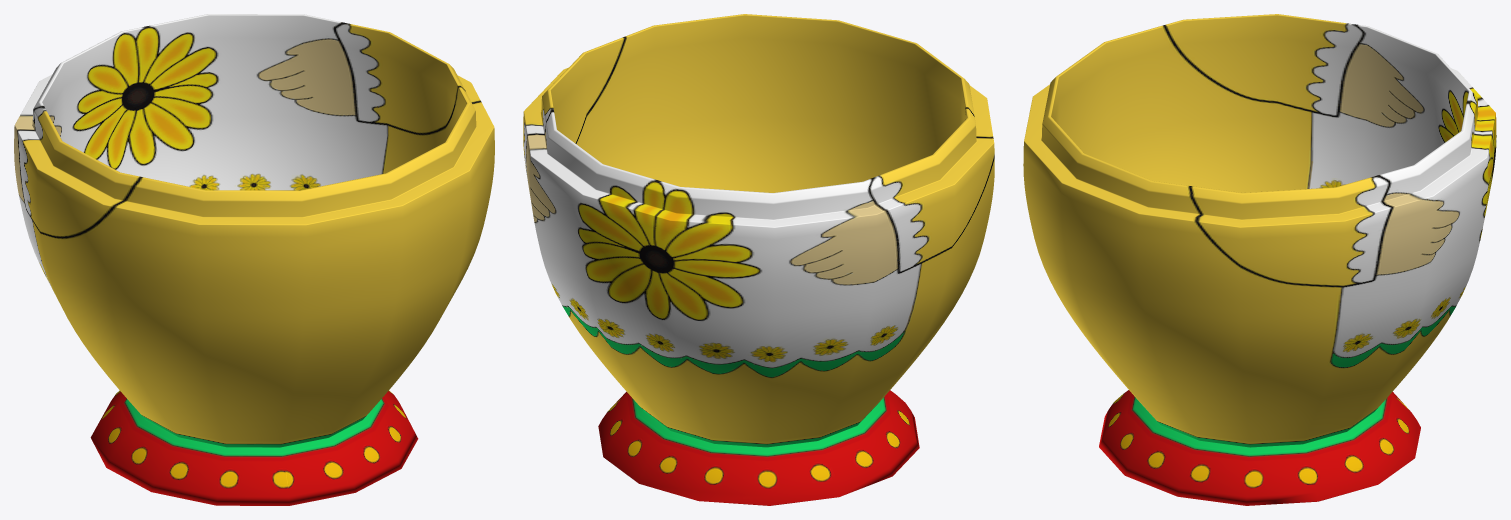
Rendered from mdl_hub_matryoshka_base1.gltf.
The picture shows the model from 3 angles, left to right: view 1: azimuth 30°, elevation 25°; view 2: azimuth 150°, elevation 25°; view 3: azimuth 270°, elevation 25°; orthographic projection.
Visible parts, largest first — view 1: Base_1; view 2: Base_1; view 3: Base_1.
Boxes of the visible parts, x1,y1,x2,y2 form: Base_1: [14, 14, 494, 505]; Base_1: [523, 14, 994, 505]; Base_1: [1023, 14, 1496, 505].
Size of the model in its own units: 0.151 by 0.1168 by 0.15.
Materials: 1 (1 with a texture image).
